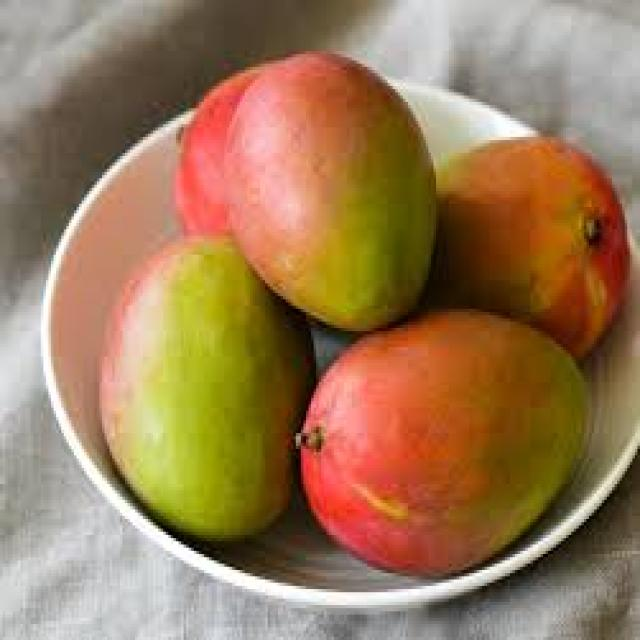mango: (295, 313, 585, 588), (94, 236, 320, 549), (224, 54, 441, 334), (425, 133, 635, 351)
